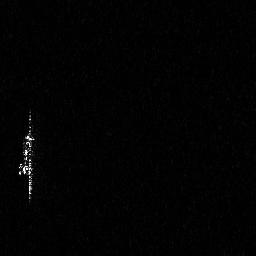ship: (17, 109, 35, 206)
